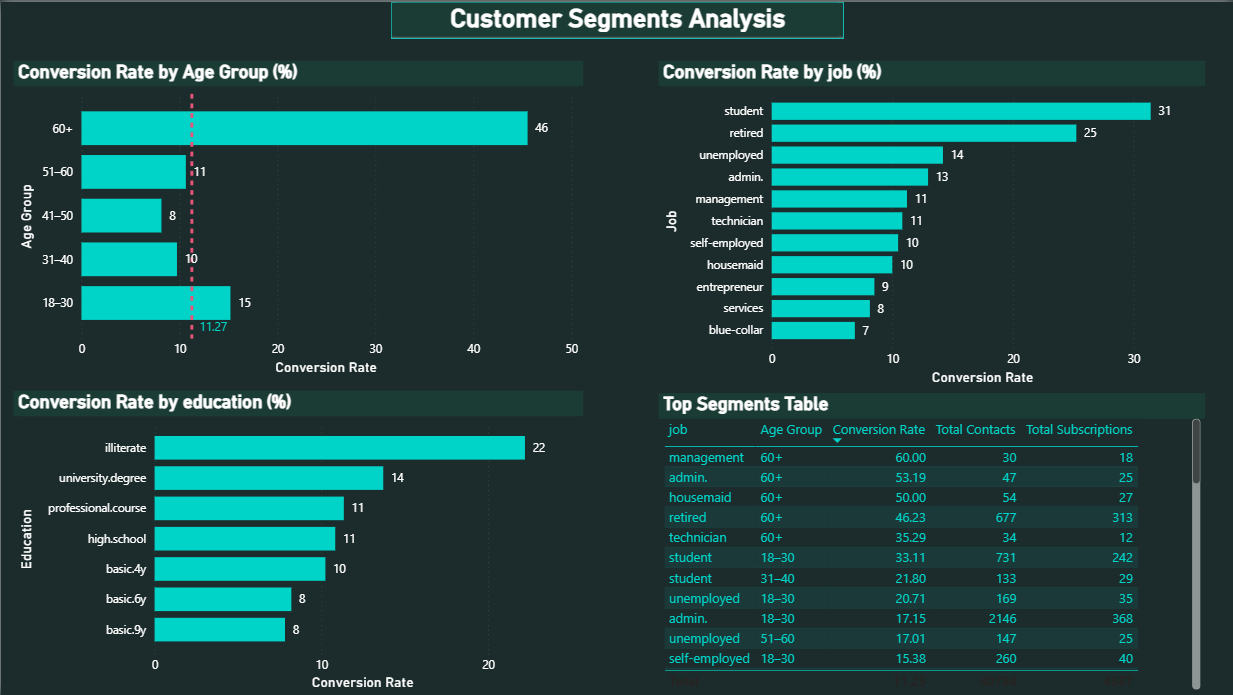

What the dashboard file says about the page in this screenshot:
{"tool":"powerbi","page":{"name":"Customer Segments","canvas":[1280,720],"ordinal":2},"visuals":[{"type":"clusteredBarChart","title":"Conversion Rate by Age Group (%)","fields":{"Category":["bank_marketing_cleaned.Age Group"],"Y":["bank_marketing_cleaned.Conversion Rate"]},"box":[13.3,61.7,591.7,331.7],"z":0},{"type":"barChart","title":"Conversion Rate by job (%)","fields":{"Category":["bank_marketing_cleaned.job"],"Y":["bank_marketing_cleaned.Conversion Rate"]},"box":[683.3,61.7,568.3,341.7],"z":1000},{"type":"barChart","title":"Conversion Rate by education (%)","fields":{"Category":["bank_marketing_cleaned.education"],"Y":["bank_marketing_cleaned.Conversion Rate"]},"box":[13.3,403.3,591.7,316.7],"z":2000},{"type":"tableEx","title":"Top Segments Table","fields":{"Values":["bank_marketing_cleaned.job","bank_marketing_cleaned.Age Group","bank_marketing_cleaned.Conversion Rate","bank_marketing_cleaned.Total Contacts","bank_marketing_cleaned.Total Subscriptions"]},"box":[683.3,406.7,568.3,313.3],"z":3000},{"type":"textbox","title":"Customer Segments Analysis","box":[405,0,470,38.3],"z":4000}]}

Visuals, with their boxes in screenshot pixels (x1, y1, x2, y2), scaled from the page's 1280x720 canvas onto the 1233x695 screenshot:
"Conversion Rate by Age Group (%)" clusteredBarChart: box=[13, 60, 583, 380]
"Conversion Rate by job (%)" barChart: box=[658, 60, 1206, 389]
"Conversion Rate by education (%)" barChart: box=[13, 389, 583, 694]
"Top Segments Table" tableEx: box=[658, 393, 1206, 694]
"Customer Segments Analysis" textbox: box=[390, 0, 843, 37]
